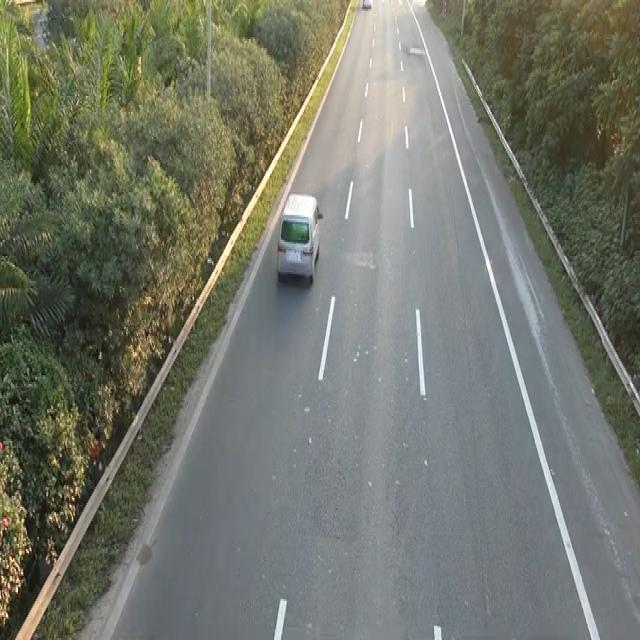lorry: (275, 188, 323, 284)
